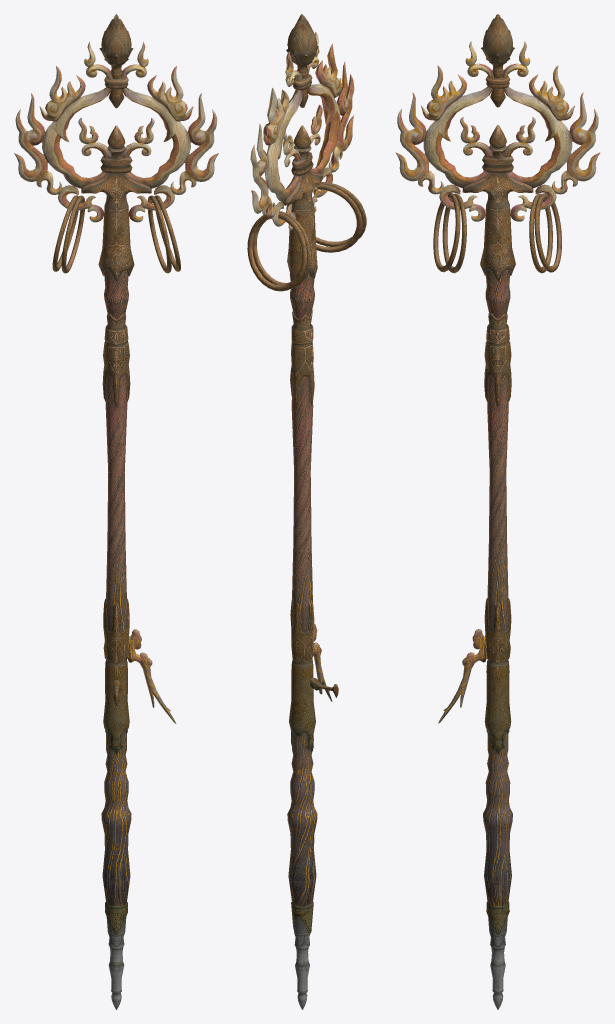
The model's file is rod016.obj.
3 views of the same model, side by side, from view 1: azimuth 90°, elevation 25°; view 2: azimuth 150°, elevation 25°; view 3: azimuth 270°, elevation 25° (orthographic).
Visible parts, largest first — view 1: rod016_000_LOD_1, rod016_001_LOD_1, rod016_003_LOD_1, rod016_005_LOD_1, rod016_004_LOD_1, rod016_002_LOD_1; view 2: rod016_000_LOD_1, rod016_004_LOD_1, rod016_001_LOD_1, rod016_003_LOD_1, rod016_005_LOD_1, rod016_002_LOD_1; view 3: rod016_000_LOD_1, rod016_001_LOD_1, rod016_002_LOD_1, rod016_004_LOD_1, rod016_003_LOD_1, rod016_005_LOD_1.
Boxes of the visible parts, left/top/right/bottom form: rod016_000_LOD_1: left=14, top=14, right=218, bottom=934; rod016_001_LOD_1: left=106, top=917, right=126, bottom=1009; rod016_003_LOD_1: left=147, top=195, right=171, bottom=273; rod016_005_LOD_1: left=61, top=195, right=85, bottom=273; rod016_004_LOD_1: left=52, top=195, right=78, bottom=271; rod016_002_LOD_1: left=154, top=195, right=180, bottom=271; rod016_000_LOD_1: left=250, top=14, right=354, bottom=933; rod016_004_LOD_1: left=247, top=212, right=307, bottom=291; rod016_001_LOD_1: left=293, top=917, right=310, bottom=1009; rod016_003_LOD_1: left=286, top=184, right=362, bottom=252; rod016_005_LOD_1: left=252, top=211, right=311, bottom=288; rod016_002_LOD_1: left=315, top=181, right=366, bottom=246; rod016_000_LOD_1: left=395, top=14, right=600, bottom=934; rod016_001_LOD_1: left=488, top=918, right=507, bottom=1009; rod016_002_LOD_1: left=433, top=193, right=460, bottom=272; rod016_004_LOD_1: left=534, top=193, right=561, bottom=272; rod016_003_LOD_1: left=442, top=193, right=466, bottom=273; rod016_005_LOD_1: left=529, top=193, right=552, bottom=273.
Size of the model in its own units: 29.31 by 401 by 74.8.
